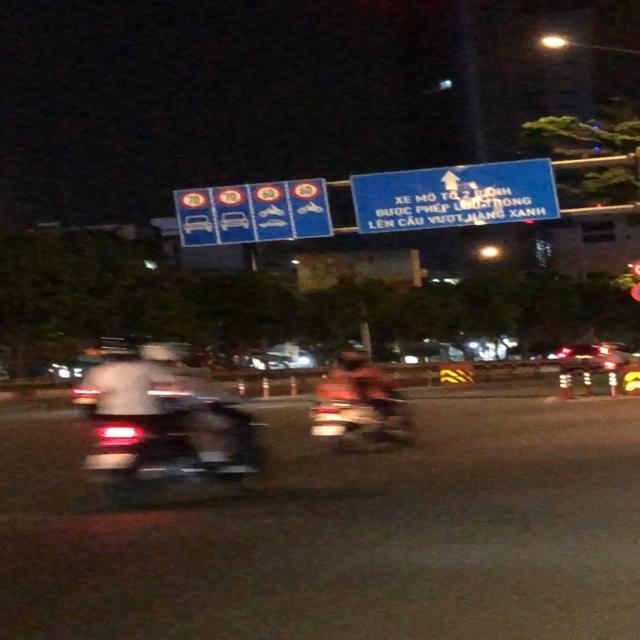Bien bao toc do toi da cho phep: (288, 181, 324, 200), (177, 190, 212, 209), (215, 188, 246, 207), (252, 184, 281, 202)
